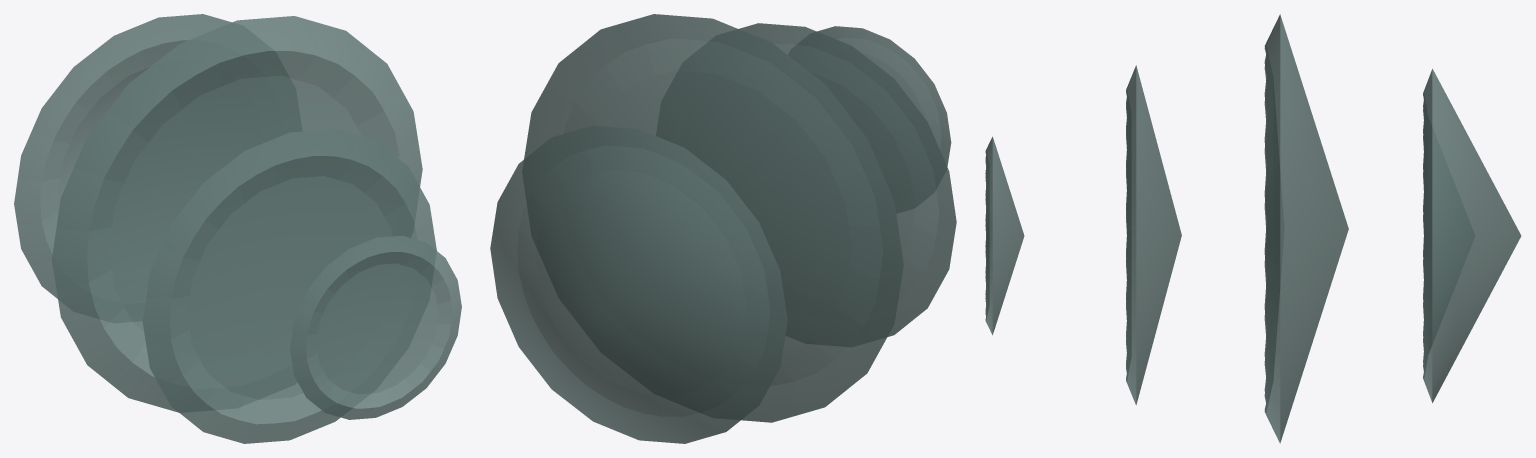
File: AirProjectile.fbx
The picture shows the model from 3 angles, left to right: view 1: azimuth 30°, elevation 25°; view 2: azimuth 150°, elevation 25°; view 3: azimuth 270°, elevation 25°; orthographic projection. The views are drawn at different scales.
Visible parts, largest first — view 1: pasted__pCylinder1 (×3), pCylinder1; view 2: pasted__pCylinder1 (×3), pCylinder1; view 3: pasted__pCylinder1 (×3), pCylinder1.
Part boxes in pixels (x1,y1,x2,y2): pasted__pCylinder1 (×3): (51, 16, 461, 443); pCylinder1: (14, 14, 231, 298); pasted__pCylinder1 (×3): (524, 14, 956, 422); pCylinder1: (490, 125, 787, 443); pasted__pCylinder1 (×3): (985, 14, 1348, 443); pCylinder1: (1423, 68, 1521, 402).
Bounding box in the file's own units: 2.93 × 2.93 × 3.62.
